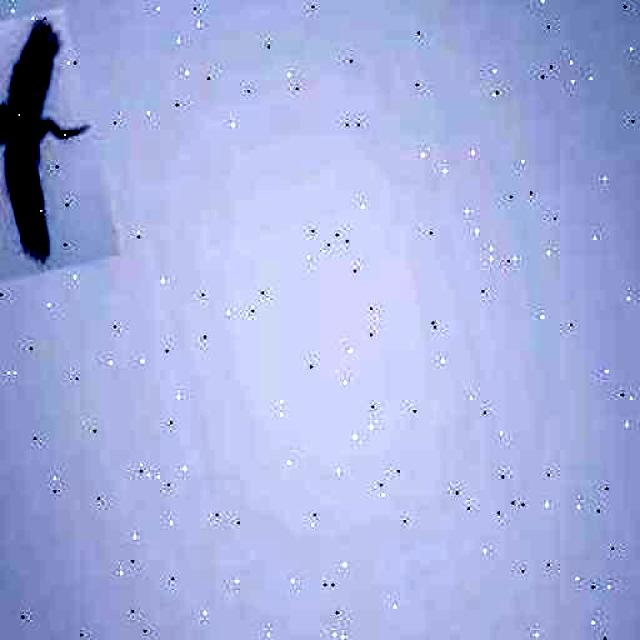airplane: (0, 5, 120, 282)
